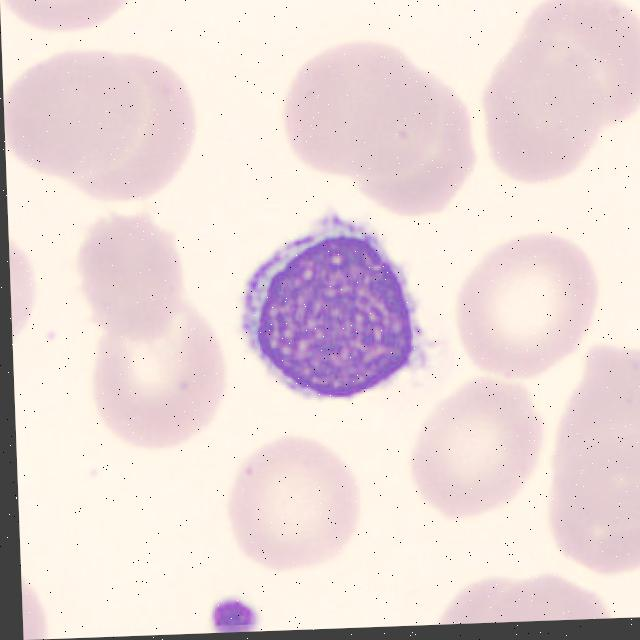lymphocyte: (237, 201, 431, 410)
platelets: (206, 601, 263, 631)
rbc: (455, 233, 617, 367), (276, 41, 441, 166), (63, 70, 199, 219), (404, 382, 553, 512), (2, 45, 143, 182), (482, 32, 602, 179), (231, 436, 357, 570), (61, 222, 189, 351), (350, 80, 473, 212), (518, 0, 640, 132), (84, 328, 214, 444), (526, 409, 640, 504), (555, 335, 640, 454), (551, 466, 640, 576), (483, 574, 606, 623), (419, 569, 520, 624), (0, 0, 131, 39), (9, 226, 48, 354), (21, 566, 68, 640), (613, 323, 615, 324)
